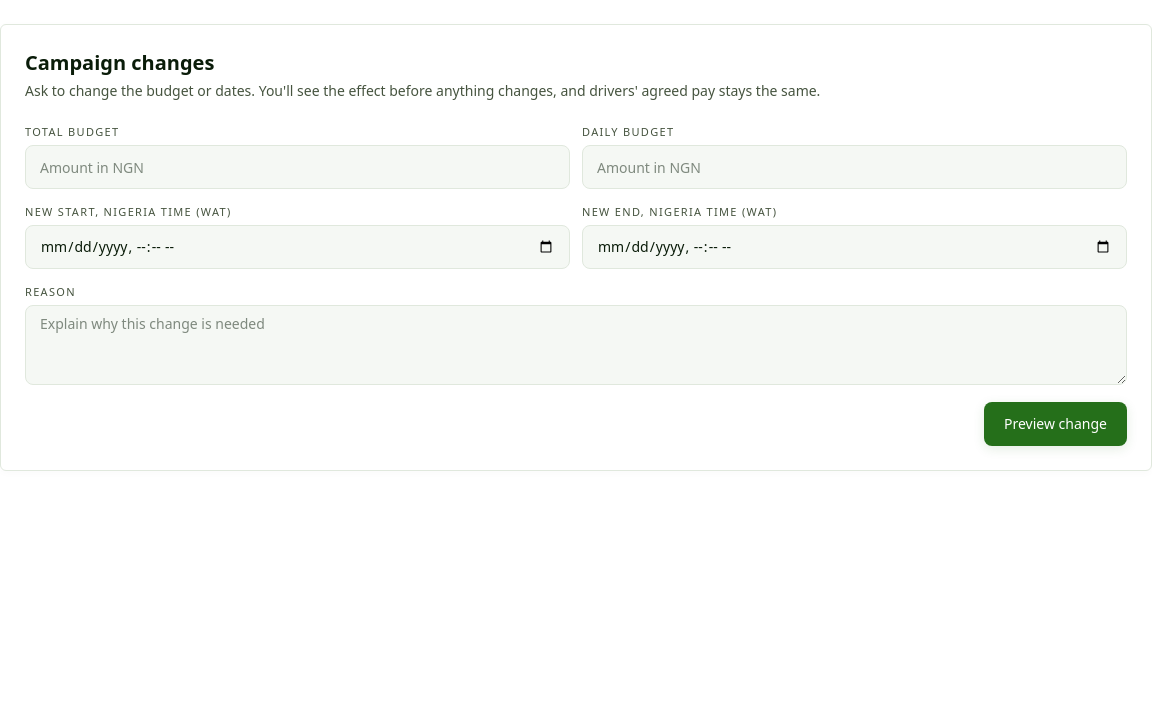
Scenario: CampaignChangePanel › clears a preview when Total budget changes and requires another preview
Type "1100.00" into the field labelled "Total budget".
click(298, 167); type("1100.00")  # box [25,145,570,189]
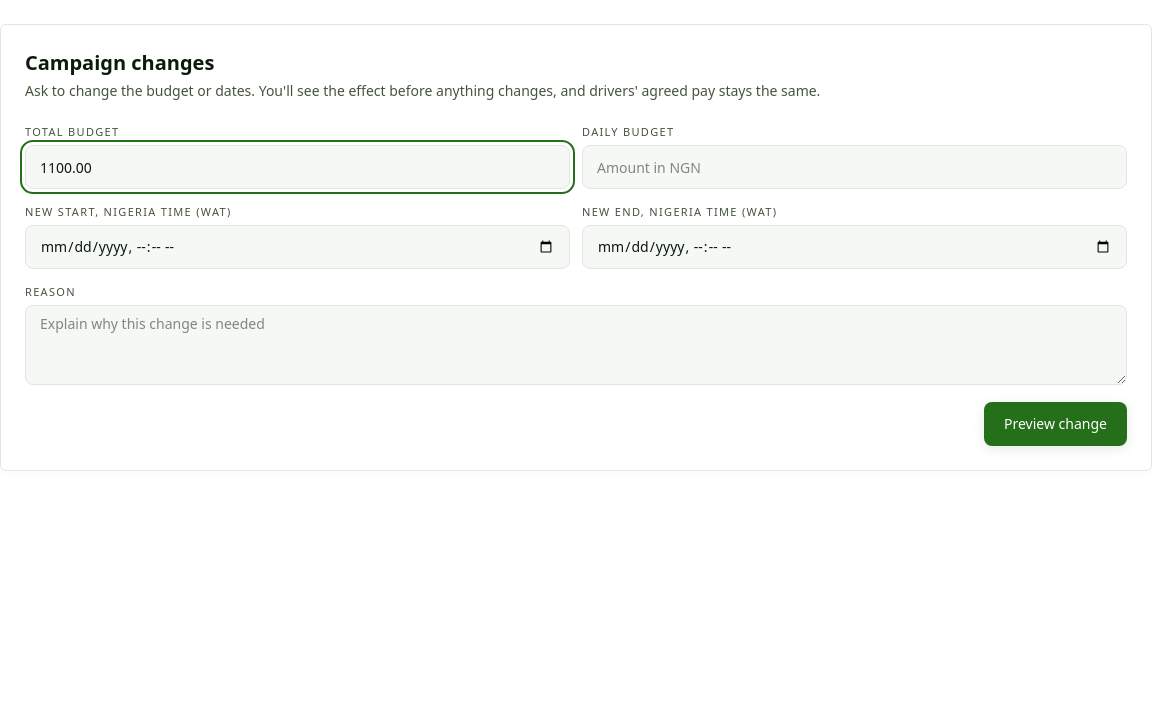
Type "Expansion" into the text box labelled "Reason".
click(576, 345); type("Expansion")  # box [25,305,1127,385]
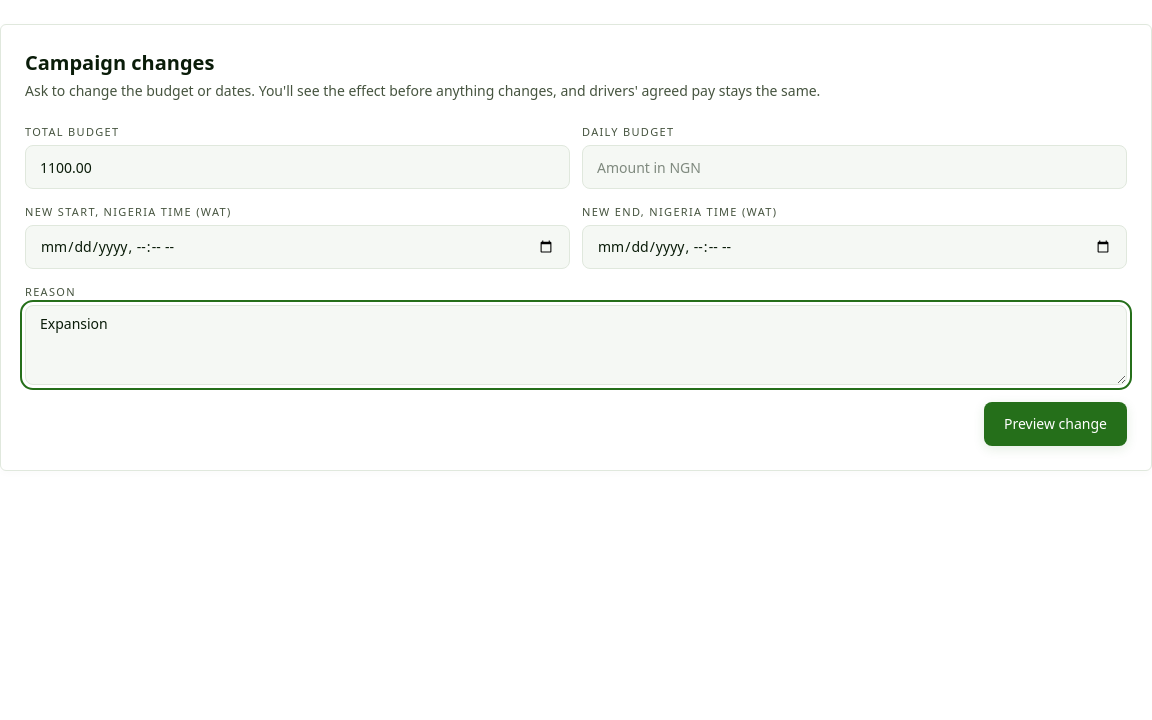
Click the button "Preview change".
click(1056, 424)  # box [984,402,1127,446]
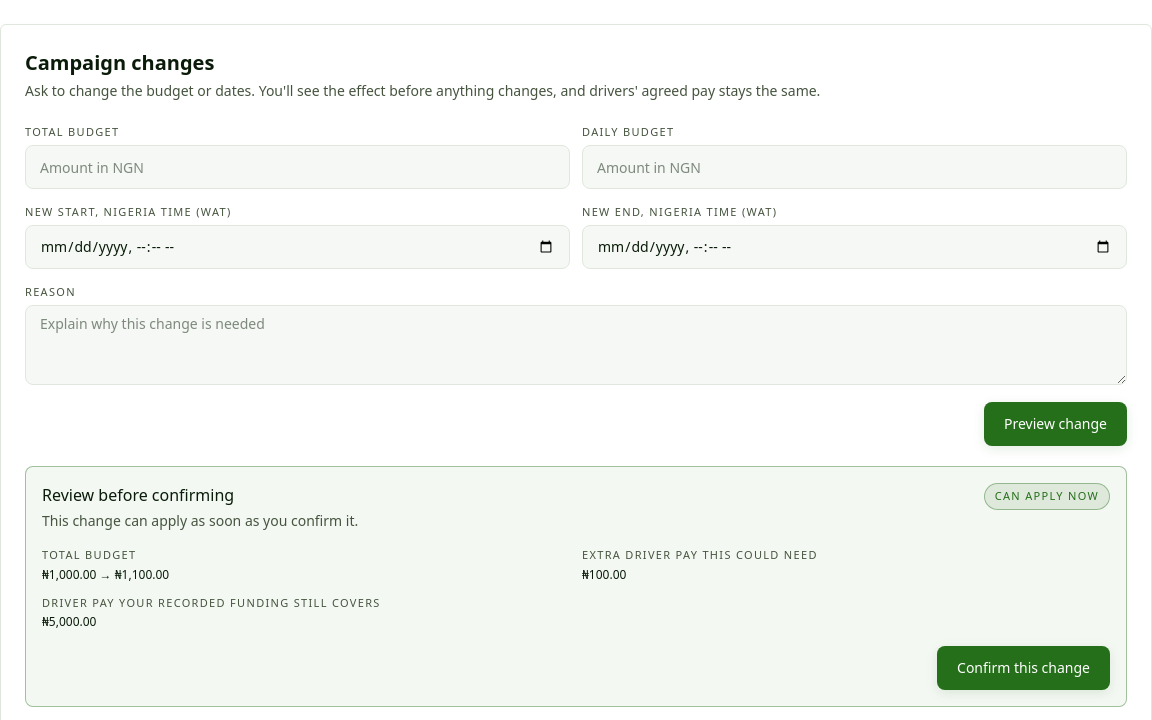
Result: the button "Confirm this change" is shown at [937,646,1110,690]
Type "1200" into the field labelled "Total budget".
click(298, 167); type("1200")  # box [25,145,570,189]
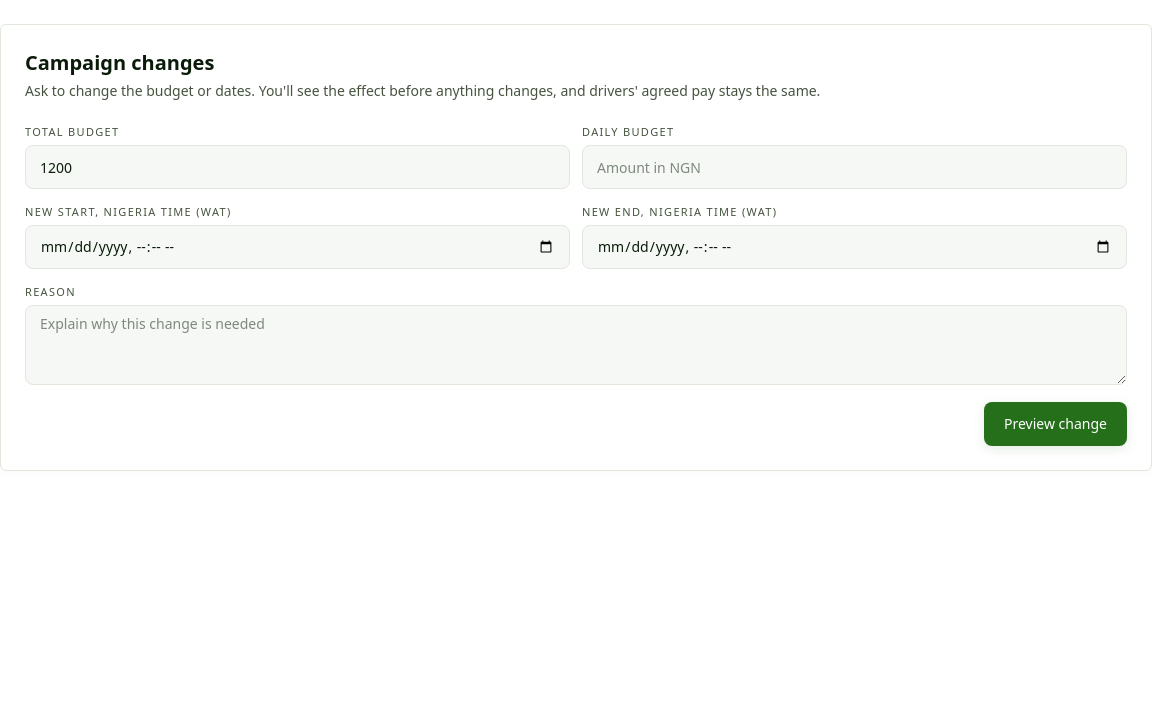
Result: the button "Confirm this change" is gone
Type "Updated expansion" into the text box labelled "Reason".
click(576, 345); type("Updated expansion")  # box [25,305,1127,385]
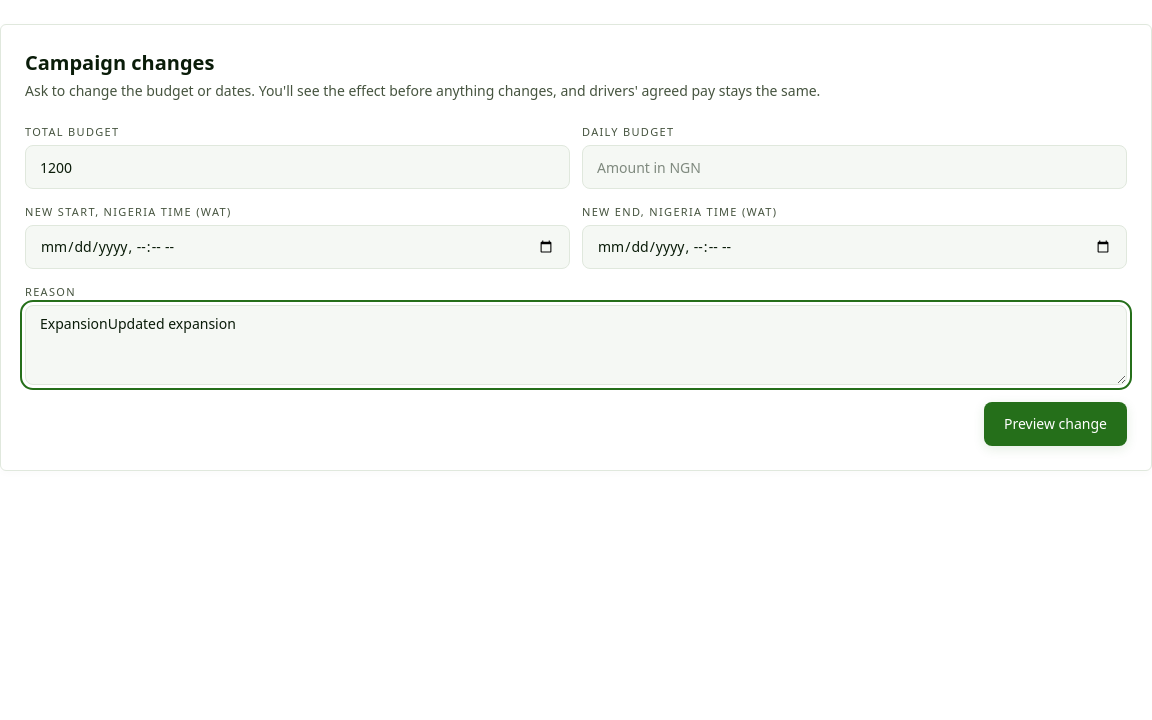
Click the button "Preview change".
click(1056, 424)  # box [984,402,1127,446]
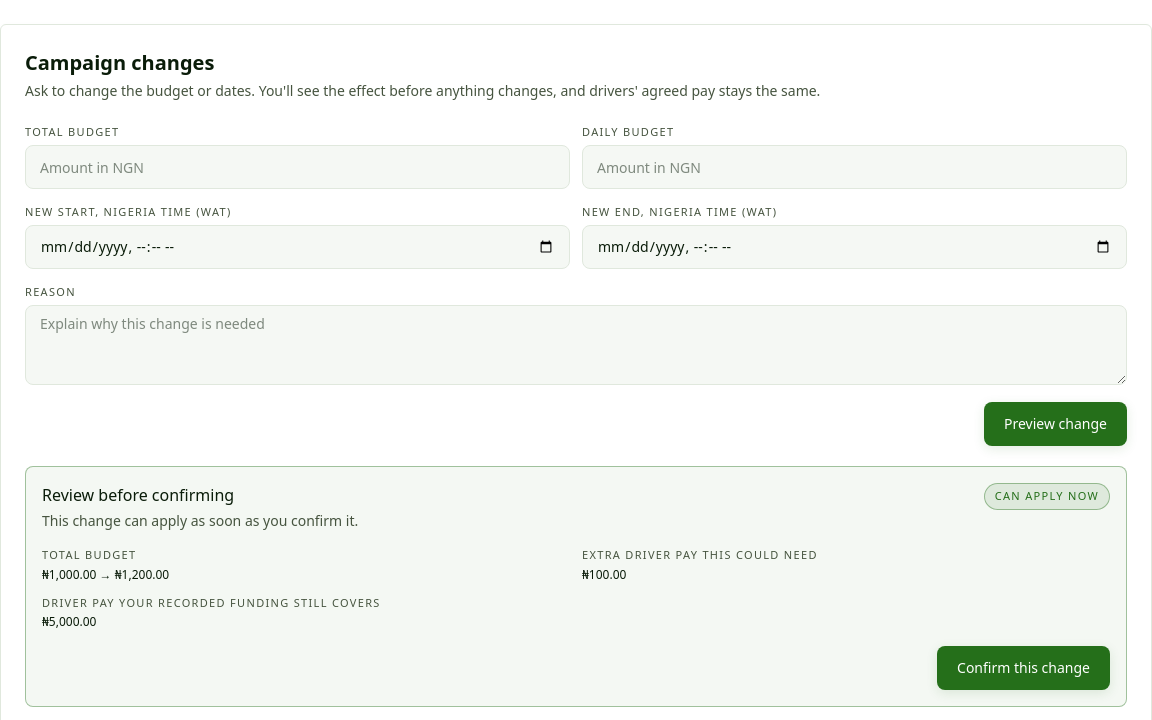
Result: the button "Confirm this change" is shown at [937,646,1110,690]
